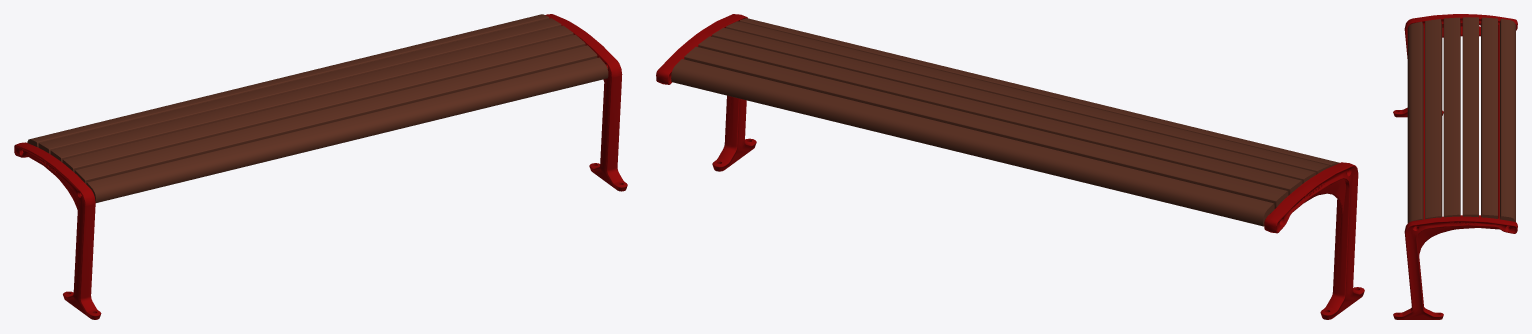
3 views of the same model, side by side, from view 1: azimuth 30°, elevation 25°; view 2: azimuth 150°, elevation 25°; view 3: azimuth 270°, elevation 25° (orthographic). The views are drawn at different scales.
Visible parts, largest first — view 1: mesh1_mesh1-geometry, mesh3_mesh3-geometry, mesh45_mesh45-geometry; view 2: mesh1_mesh1-geometry, mesh3_mesh3-geometry, mesh45_mesh45-geometry; view 3: mesh1_mesh1-geometry, mesh3_mesh3-geometry, mesh45_mesh45-geometry, mesh12_mesh12-geometry, mesh11_mesh11-geometry.
Part boxes in pixels (bbox=[...]): mesh1_mesh1-geometry: bbox=[38, 18, 597, 183]; mesh3_mesh3-geometry: bbox=[27, 14, 608, 202]; mesh45_mesh45-geometry: bbox=[14, 14, 627, 319]; mesh1_mesh1-geometry: bbox=[684, 21, 1329, 208]; mesh3_mesh3-geometry: bbox=[671, 18, 1339, 226]; mesh45_mesh45-geometry: bbox=[656, 14, 1364, 319]; mesh1_mesh1-geometry: bbox=[1425, 17, 1497, 219]; mesh3_mesh3-geometry: bbox=[1407, 19, 1515, 223]; mesh45_mesh45-geometry: bbox=[1393, 14, 1517, 319]; mesh12_mesh12-geometry: bbox=[1498, 24, 1499, 219]; mesh11_mesh11-geometry: bbox=[1423, 27, 1424, 219].
Bounding box in the file's own units: 0.9461 × 0.2159 × 0.2414.
